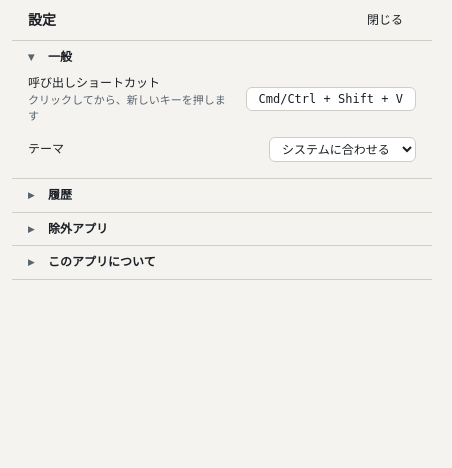
Test: SettingsWindow › 除外アプリ › 削除すると、そのアプリを除いた一覧で update_settings が呼ばれる
The image size is (452, 468).
Click the button "▸ 除外アプリ" at (78, 228), box x1=12 y1=213 x2=432 y2=245
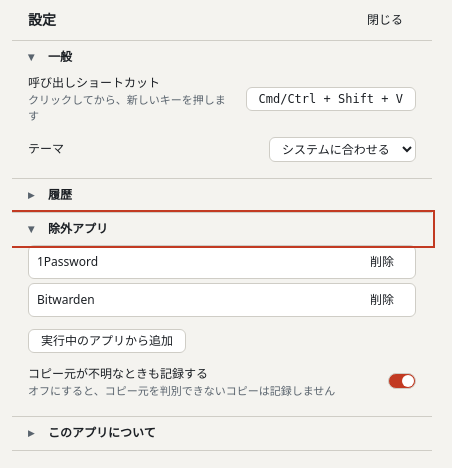
Click the button with aria-label "1Passwordを除外から外す" at (382, 262), box x1=357 y1=250 x2=407 y2=274
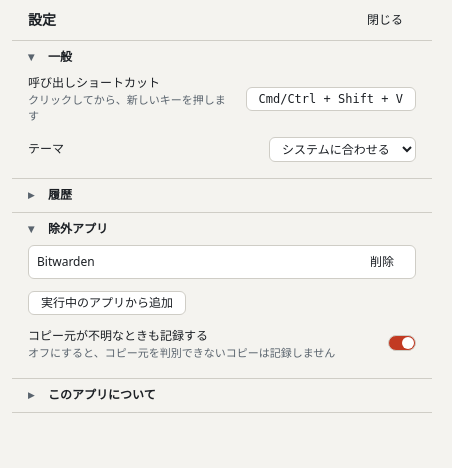
Expected: the text "1Password" is gone
